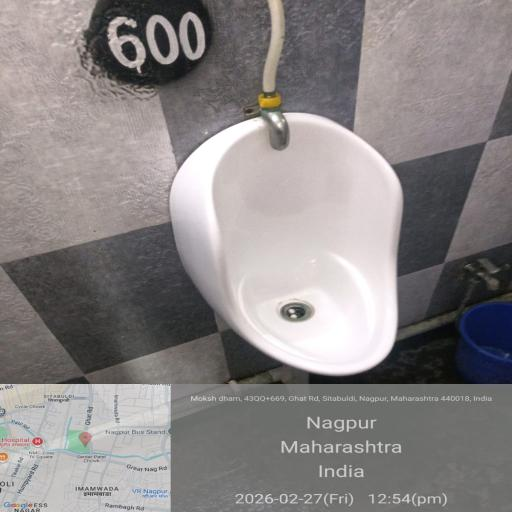clean_floor: (82, 348, 482, 506), (22, 22, 512, 119)
clean_urinal: (170, 143, 418, 372)
